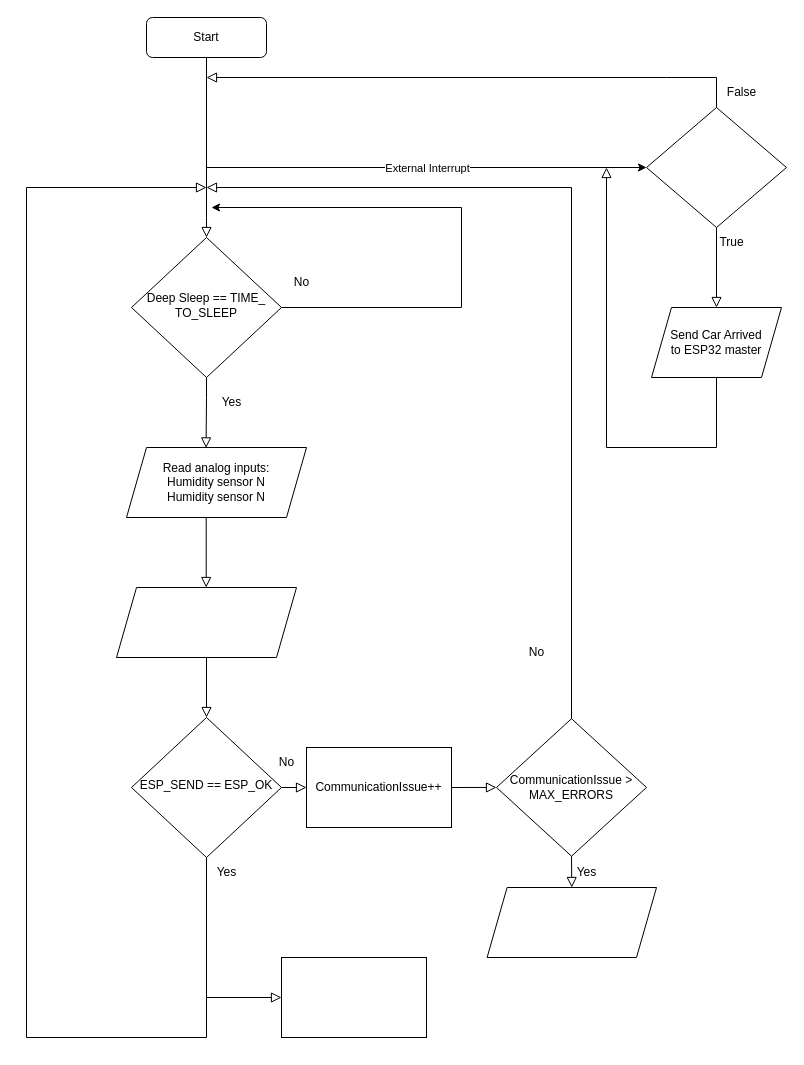
The diagram is 804 pixels wide and 1065 high, and some of its shapes have lost their labels. The shapes that lost their labels are listed below. From the top down, each one's box as (x1, y1, x2, y2) in pixels, then its label:
(646, 106, 786, 228): Proximity sensor == 1
(116, 586, 296, 658): Send the data to ESP32 master
(486, 886, 656, 958): Display DTC on web server
(280, 956, 426, 1038): CommunicationIssue --
